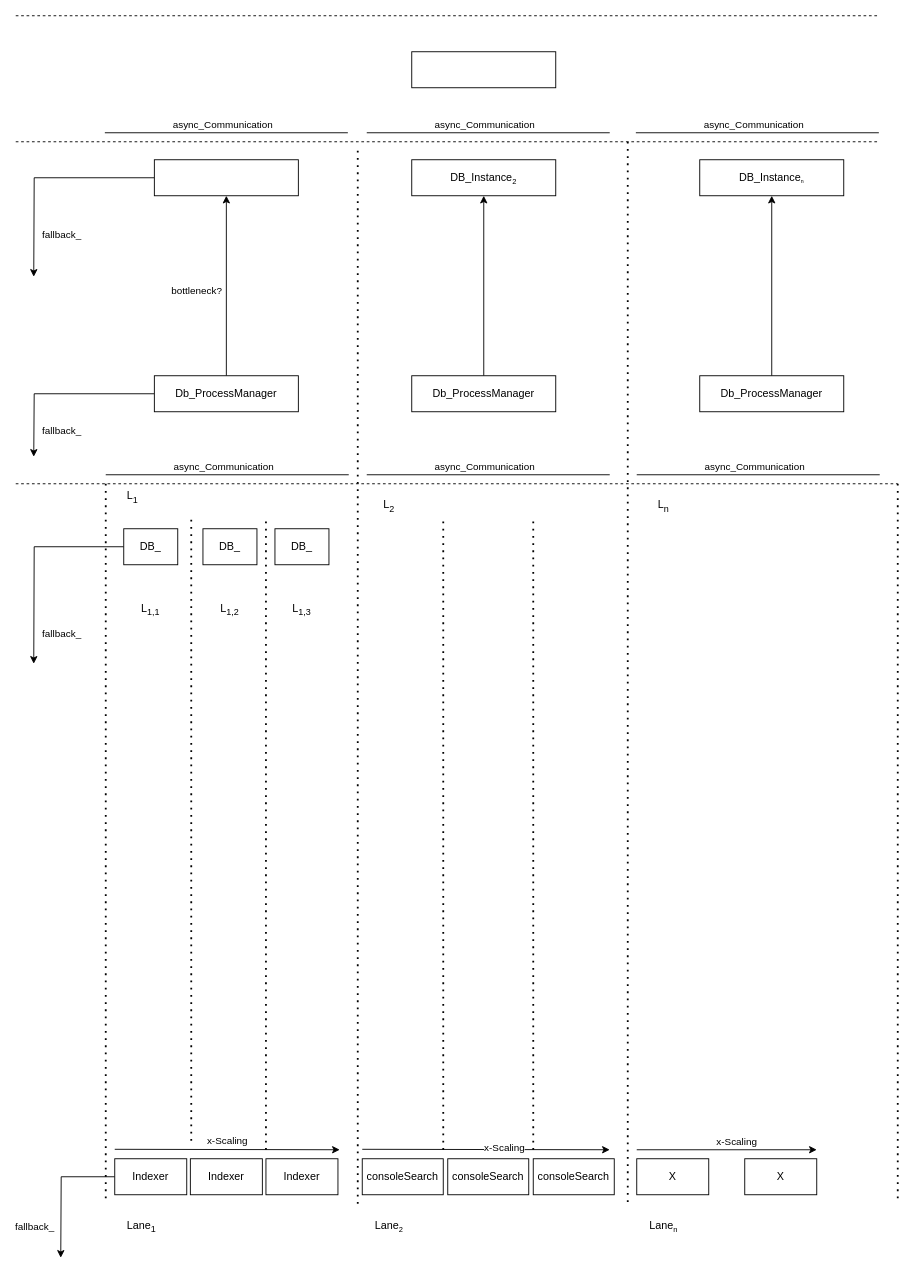
This 915x1281 diagram has some shape labels left out. The shapes that lost their labels are listed below. From the top down, each one's centre as x and y in pixels, then its label:
the point at 483,69: Db_backup_System
the point at 225,177: DB_Instance 1
